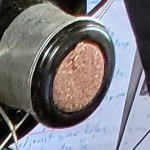bottle: (15, 14, 129, 135)
